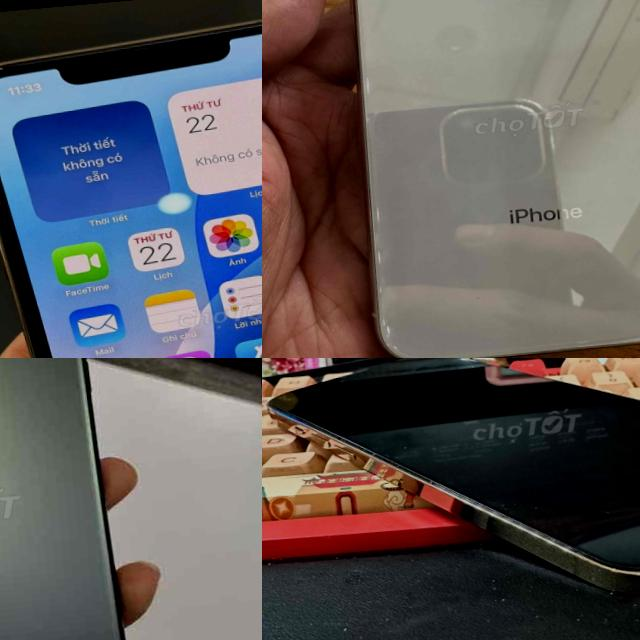gen_11: (0, 20, 262, 358), (0, 358, 124, 640)
gen_12_13: (262, 358, 640, 613)
gen_x_xs: (351, 0, 640, 358)
